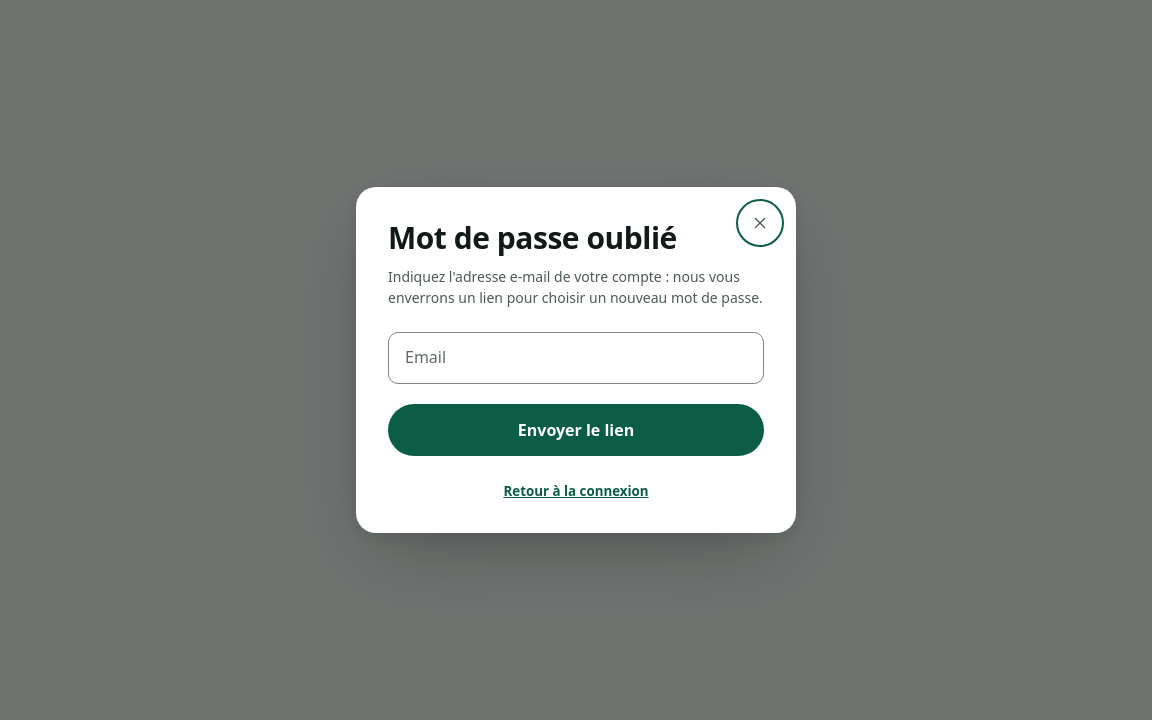
AuthModal — forgot password › same neutral message whatever the address (the UI never reveals whether the account exists)
Type "inconnu@x.com" into the field labelled "Email" at point(576, 358), box [388,332,764,384]
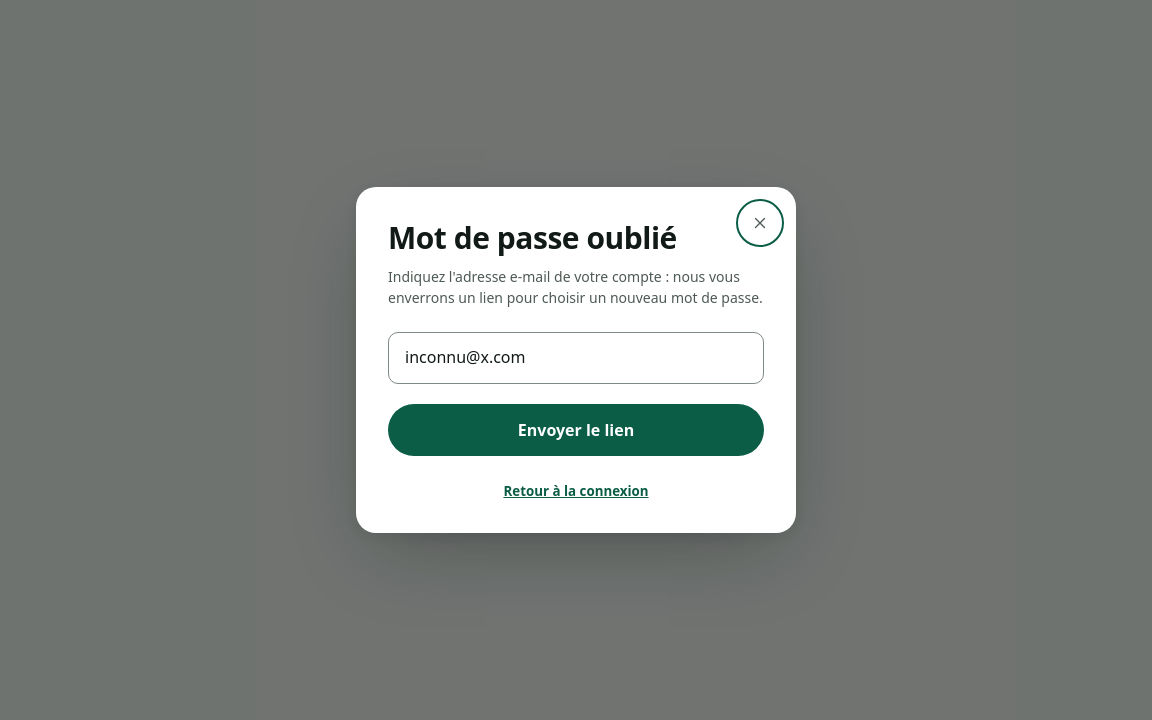
Click the button "Envoyer le lien" at point(576, 430), box [388,404,764,456]
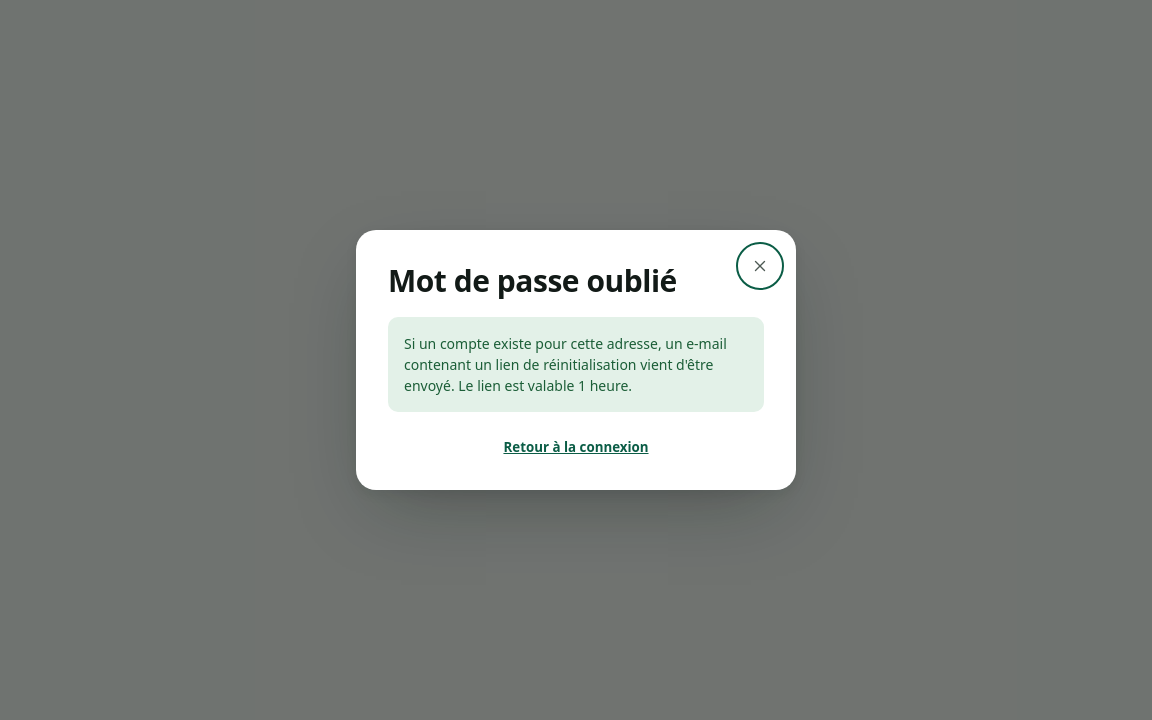
Expected: the message shows "Si un compte existe pour cette adresse, un e-mail contenant un lien de réinitialisation vient d'être envoyé. Le lien est valable 1 heure.", [404,334,727,395]
